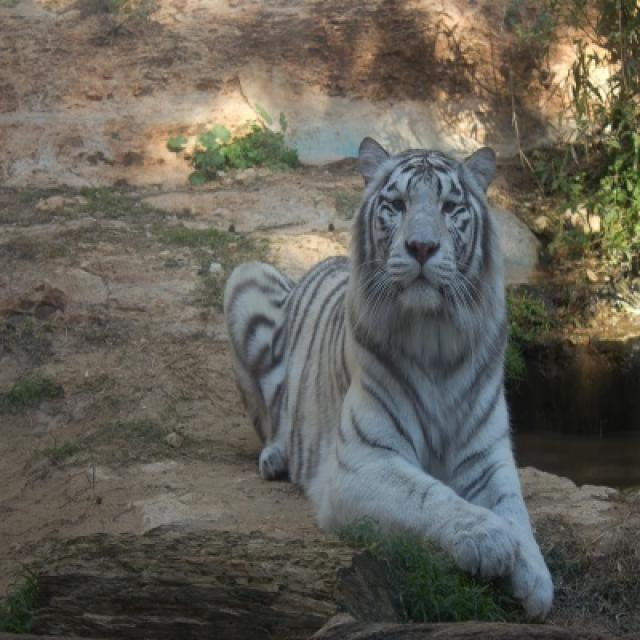Tiger: (224, 134, 557, 613)
